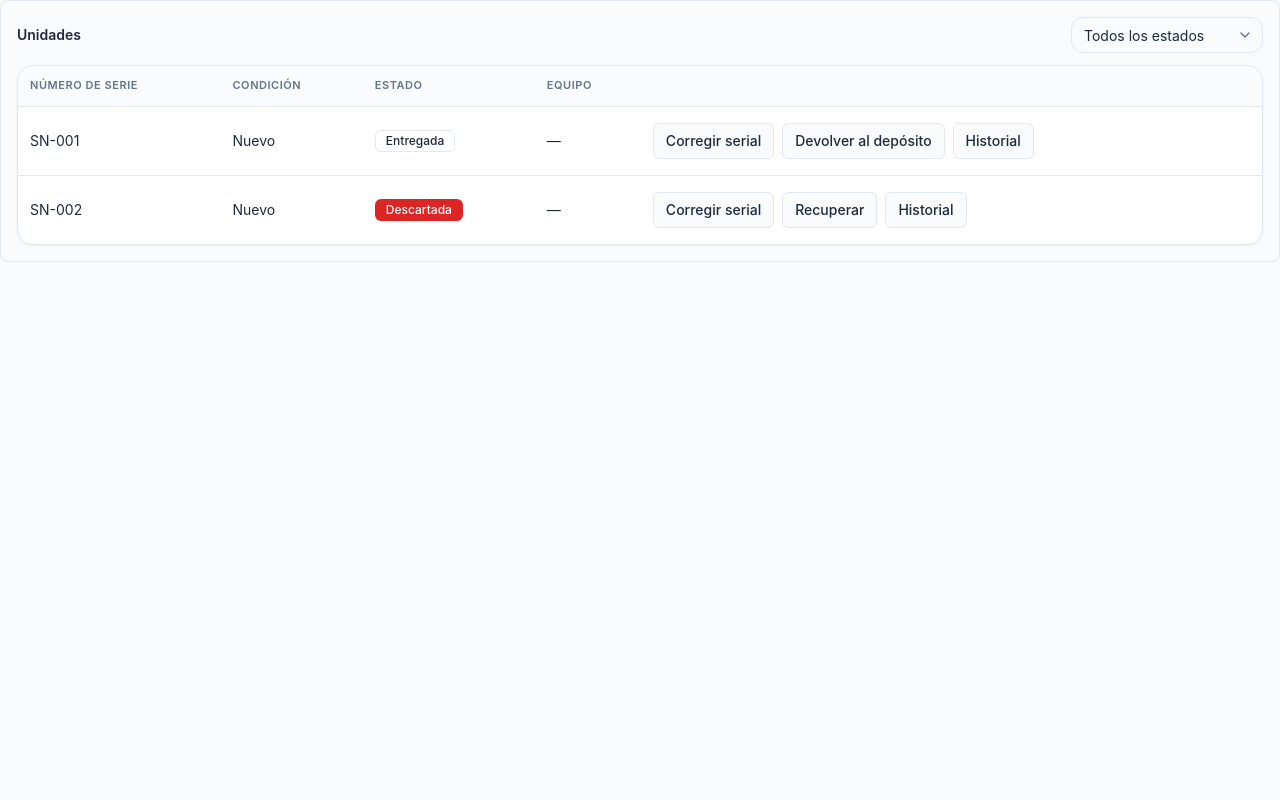
Test: UnidadReingresoDialog (desde la sección de unidades) › con la familia no vigente pero de repuestos (exención G2) sigue ofreciendo USADO al devolver y al recuperar
Click the button with aria-label "Devolver al depósito SN-001" at {"x": 863, "y": 140}, box 782,122 -> 945,158
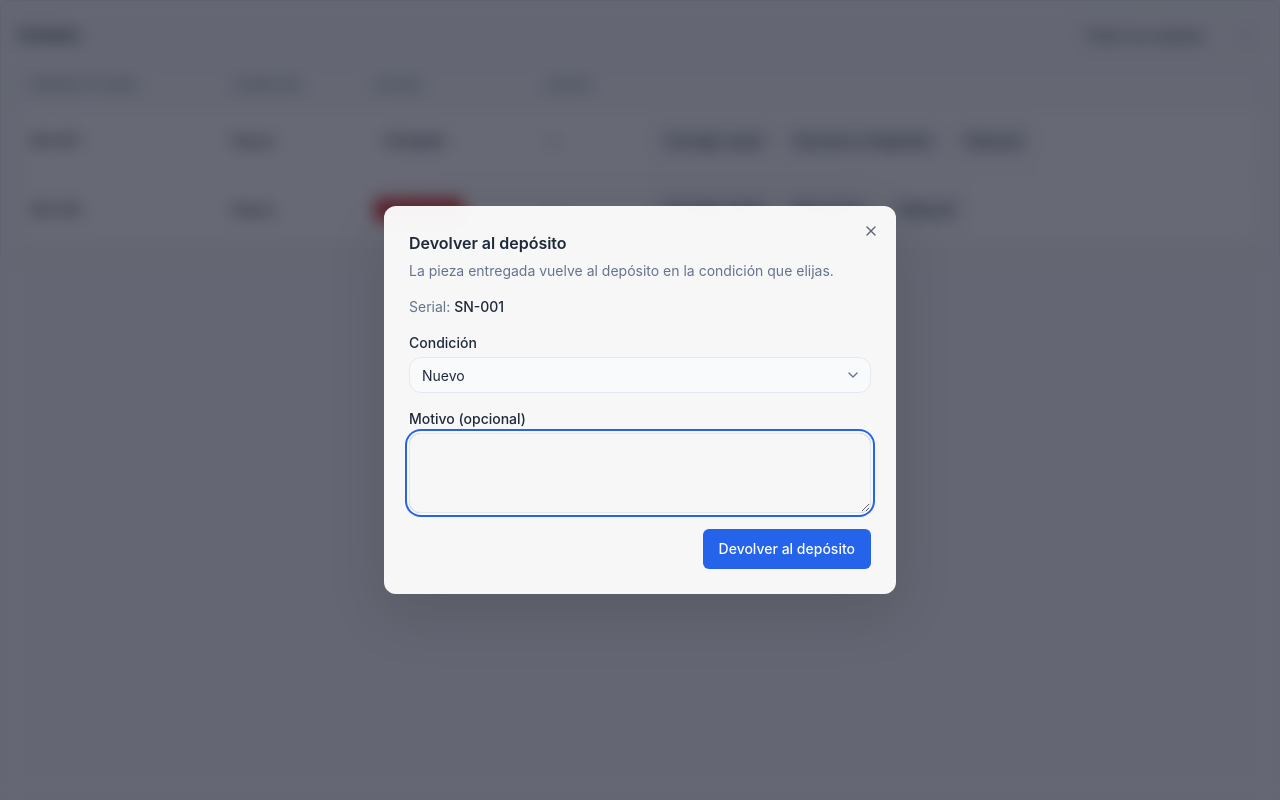
Select "Usado" in the dropdown labelled "Condición" at {"x": 640, "y": 375}, box 409,357 -> 871,393
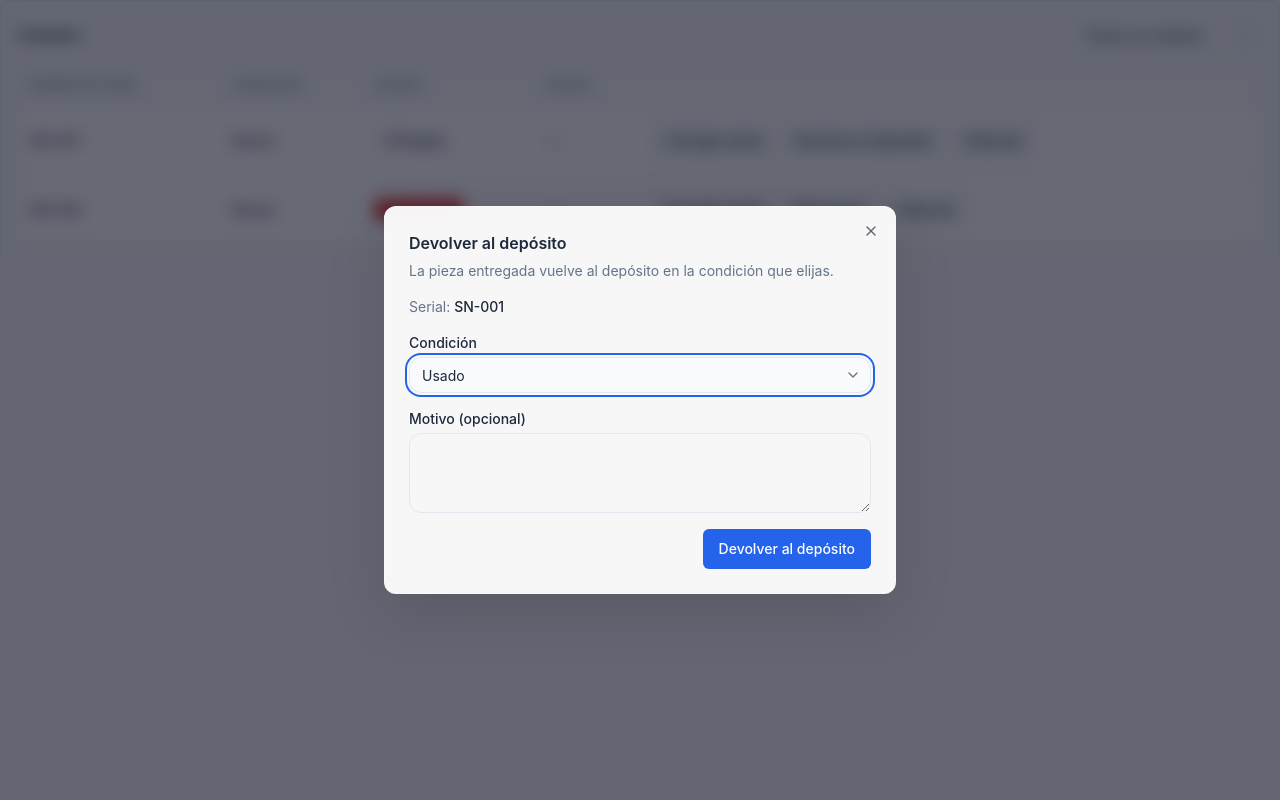
Click the button "Devolver al depósito" at {"x": 787, "y": 549}, box 703,529 -> 871,569
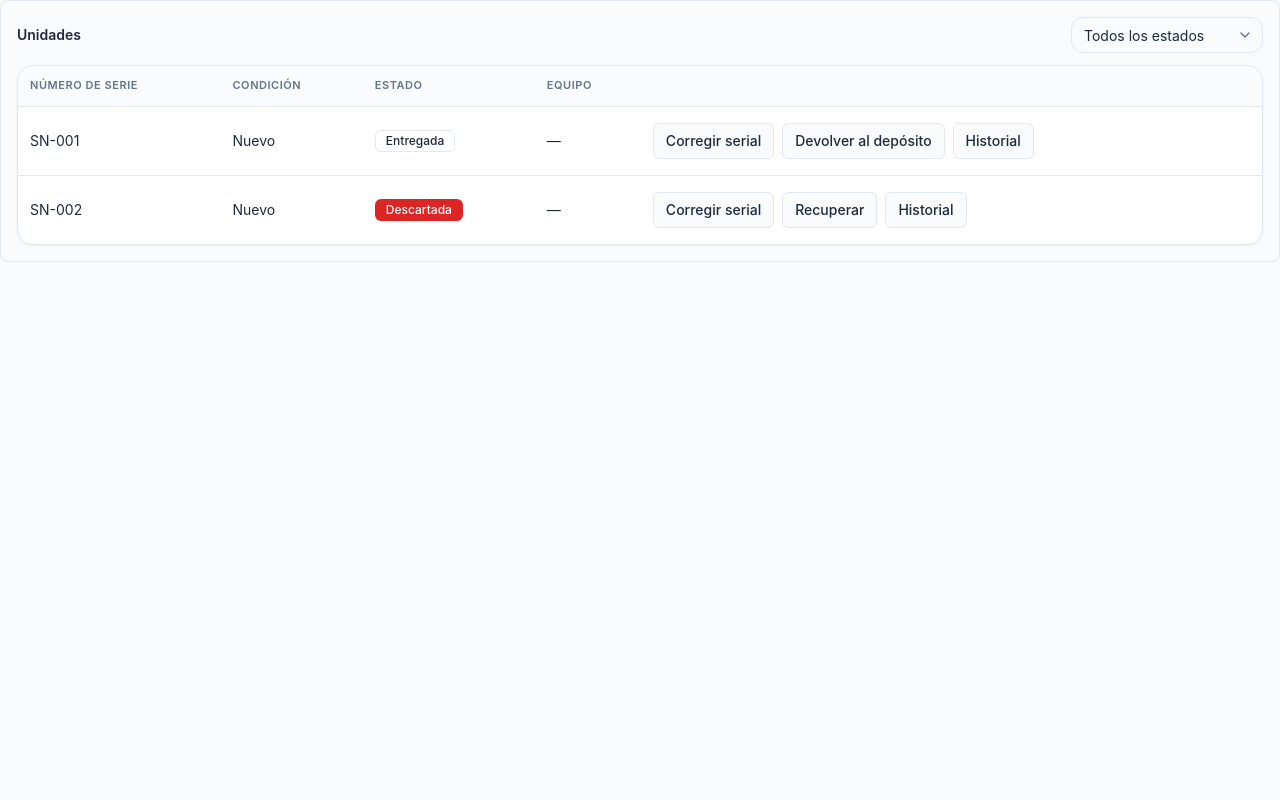
Result: the dialog is gone
Click the button with aria-label "Recuperar SN-002" at {"x": 830, "y": 210}, box 782,192 -> 877,228
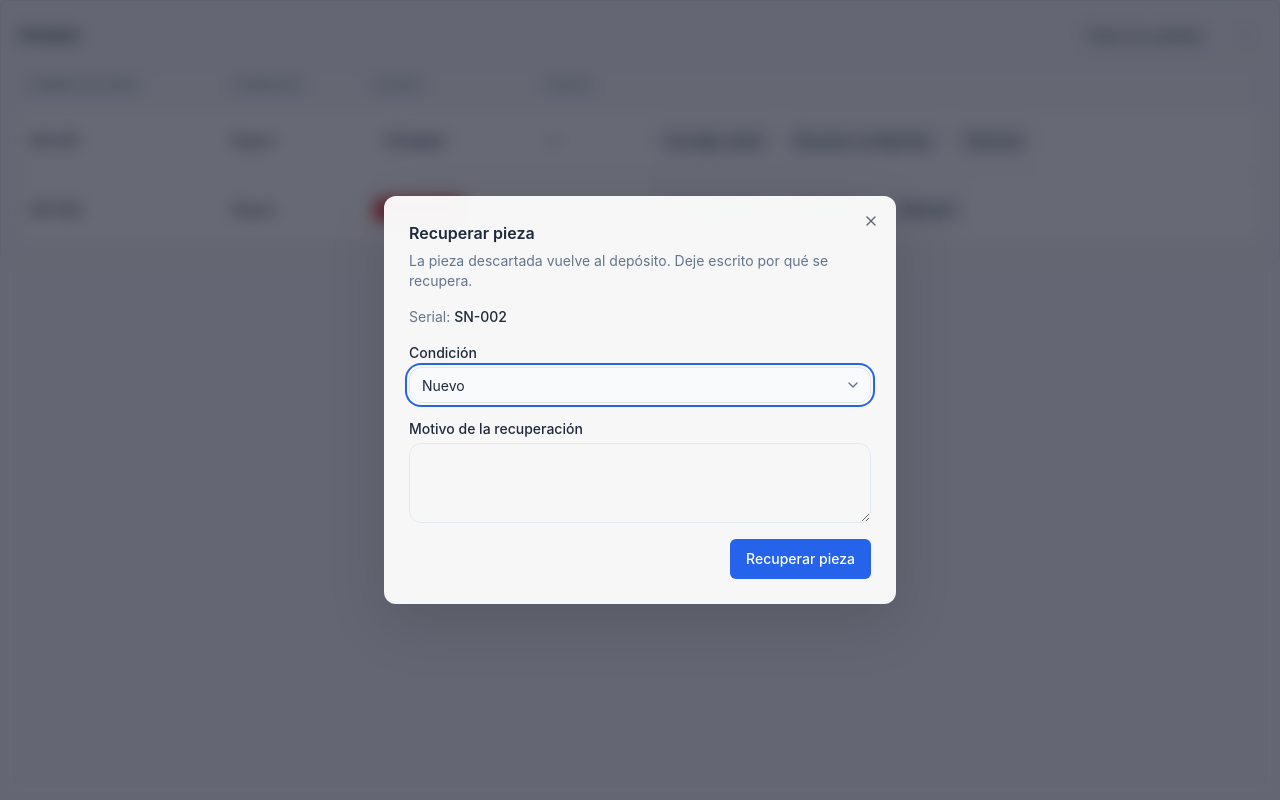
Result: the dropdown labelled "Condición" is shown at 409,367 -> 871,403
